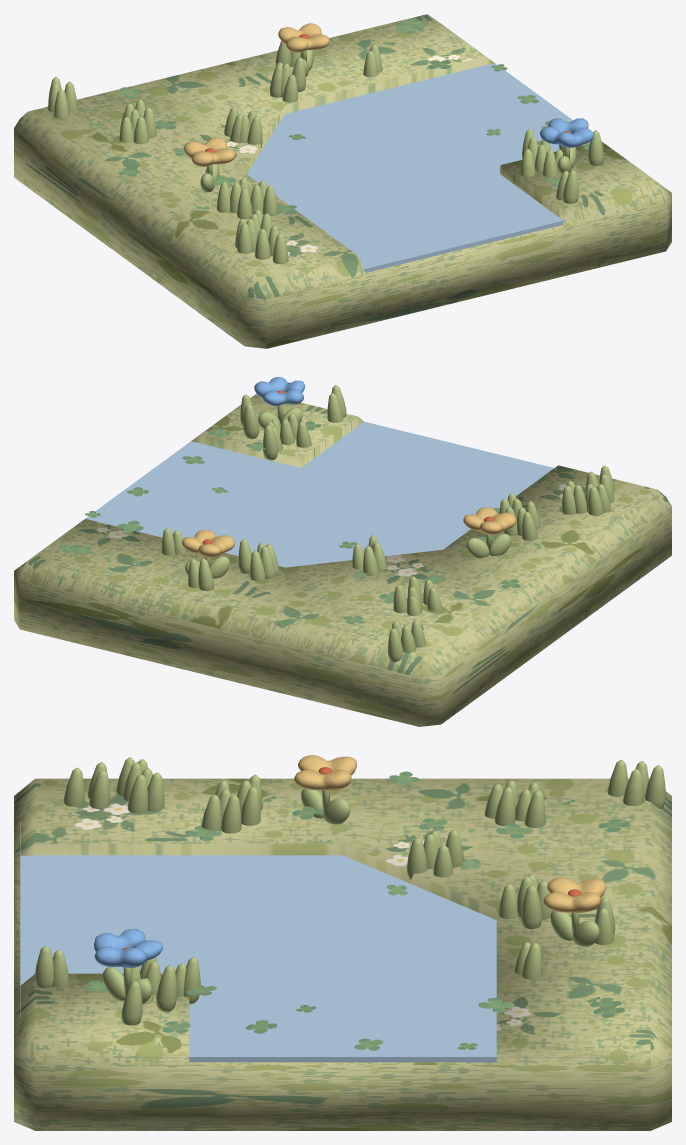
Rendered from whileroad_c.fbx.
3 views of the same model, one above another, from view 1: azimuth 30°, elevation 25°; view 2: azimuth 150°, elevation 25°; view 3: azimuth 270°, elevation 25° (orthographic). The views are drawn at different scales.
Visible parts, largest first — view 1: Cube.008; view 2: Cube.008; view 3: Cube.008.
Boxes of the visible parts, x1,y1,x2,y2 form: Cube.008: (14, 14, 671, 348); Cube.008: (14, 377, 671, 726); Cube.008: (14, 755, 671, 1130).
Bounding box in the file's own units: 200 × 48.98 × 200.
